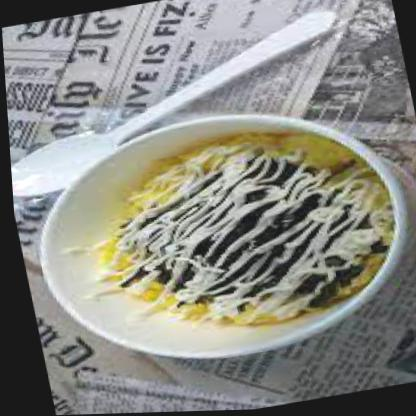cup rice: (46, 112, 410, 363)
